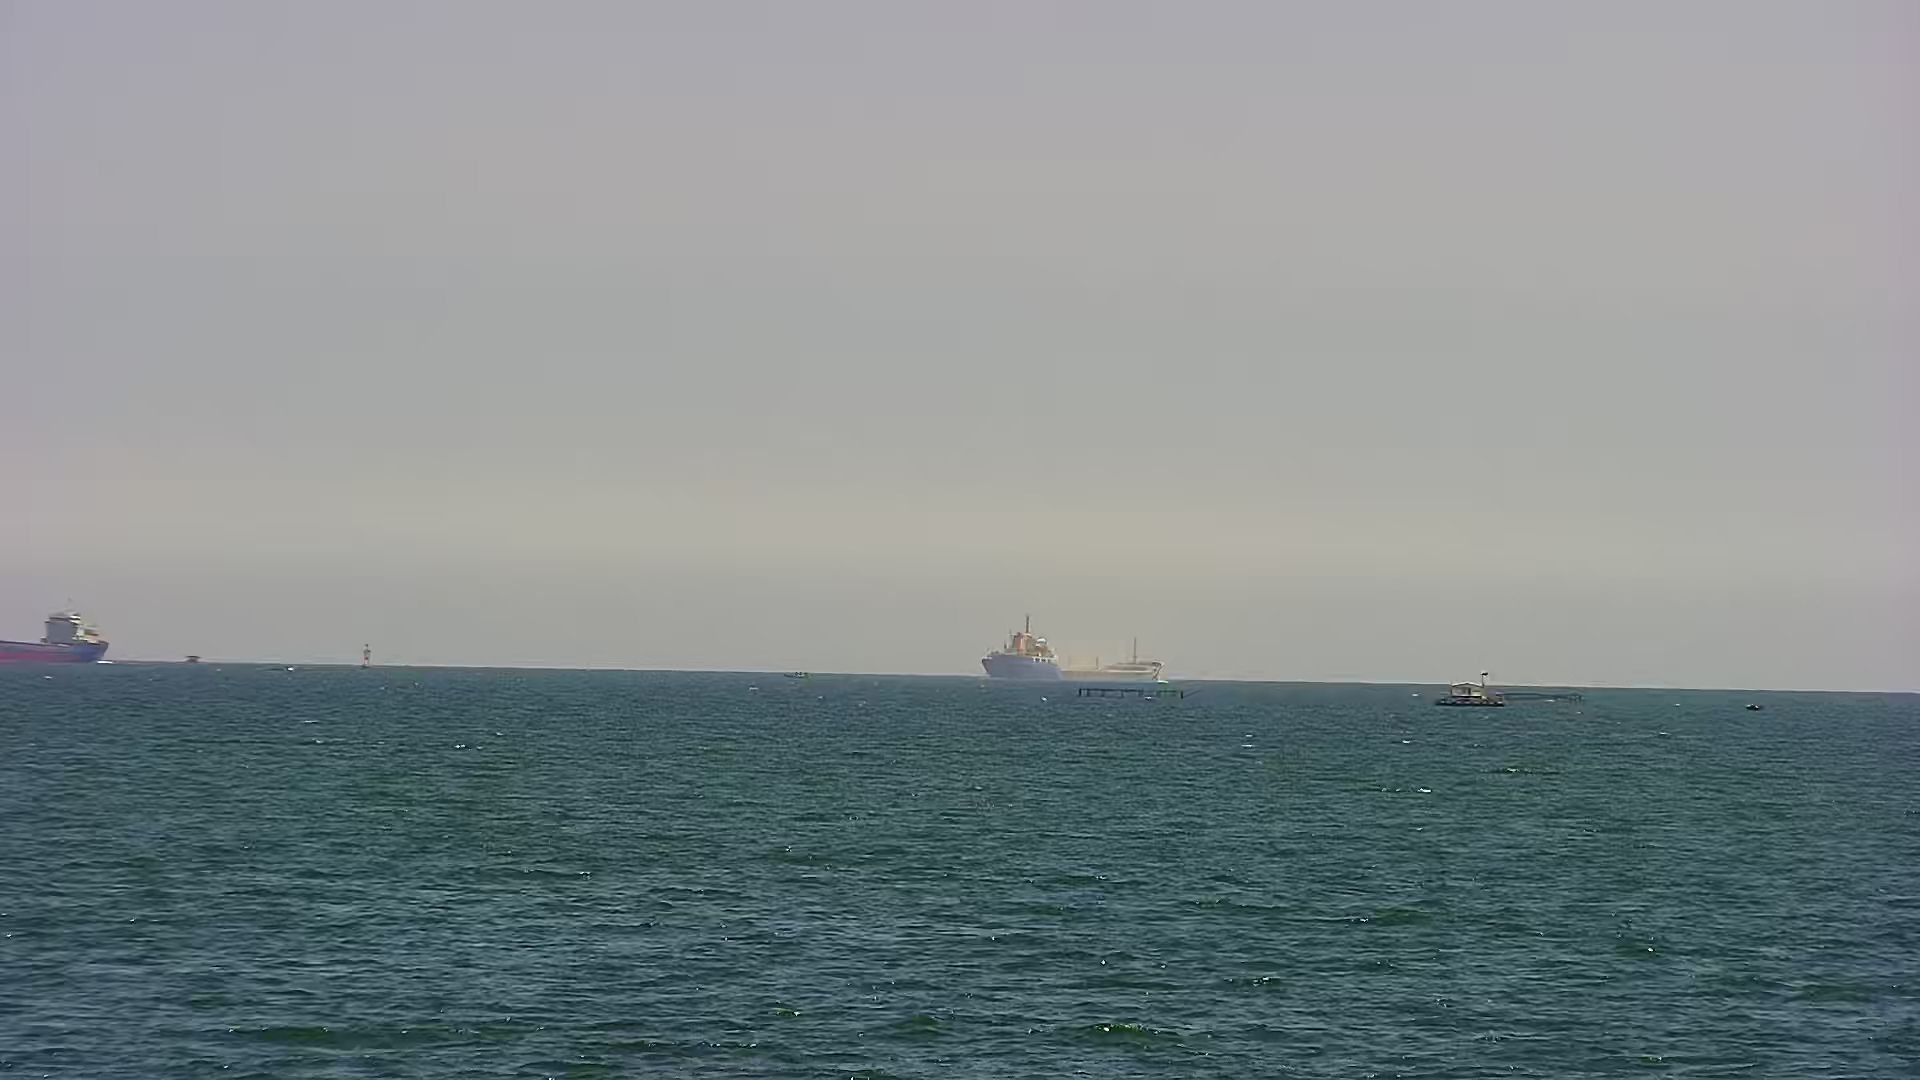boat: (1729, 700, 1783, 719), (773, 666, 822, 683)
platform: (1425, 669, 1520, 719), (1062, 676, 1201, 705), (1498, 678, 1596, 712), (355, 637, 385, 674), (171, 649, 211, 669)
ship: (945, 620, 1187, 680), (1, 603, 135, 663)
